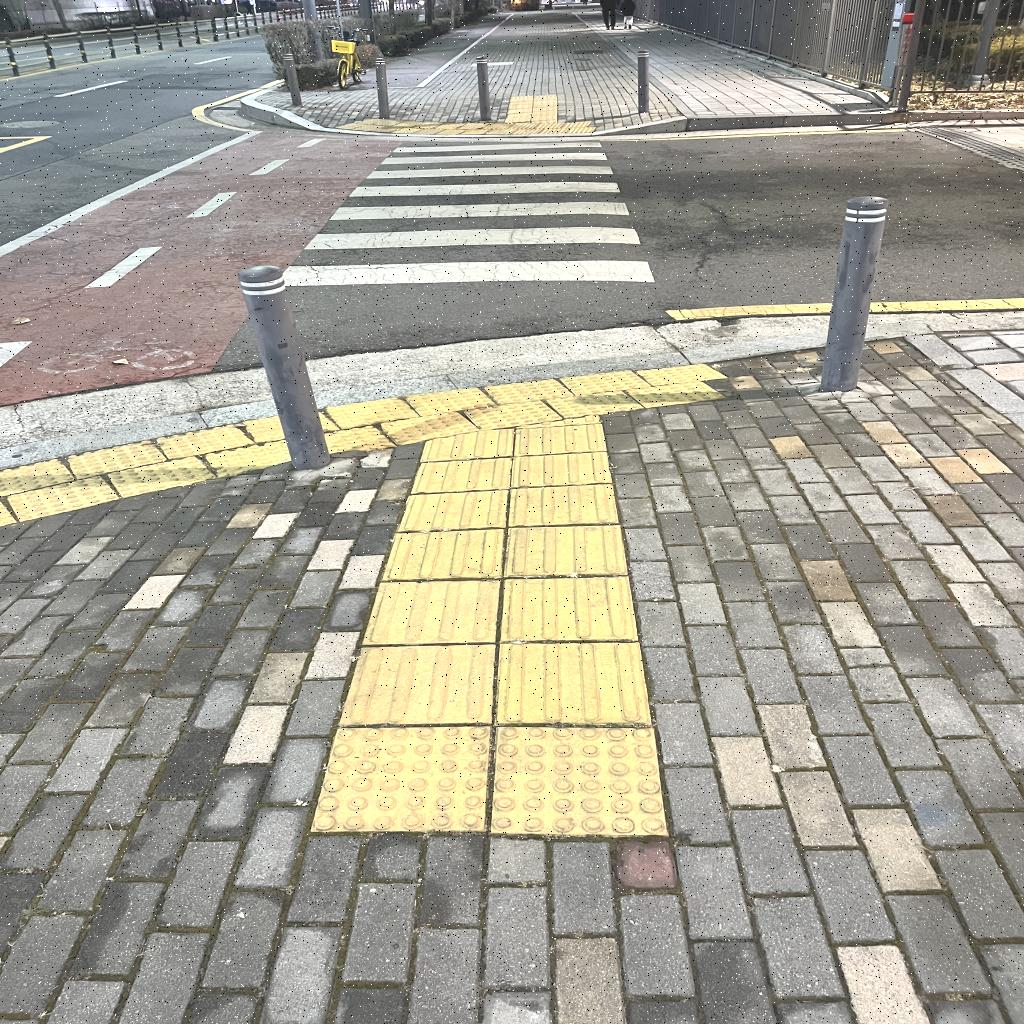Stop block normal: (310, 727, 492, 831), (493, 728, 668, 834)
Straight block normal: (496, 642, 649, 724), (341, 645, 495, 723), (499, 577, 637, 641), (363, 580, 501, 643), (381, 529, 505, 580), (505, 525, 627, 575), (508, 484, 618, 526), (397, 490, 509, 531)
